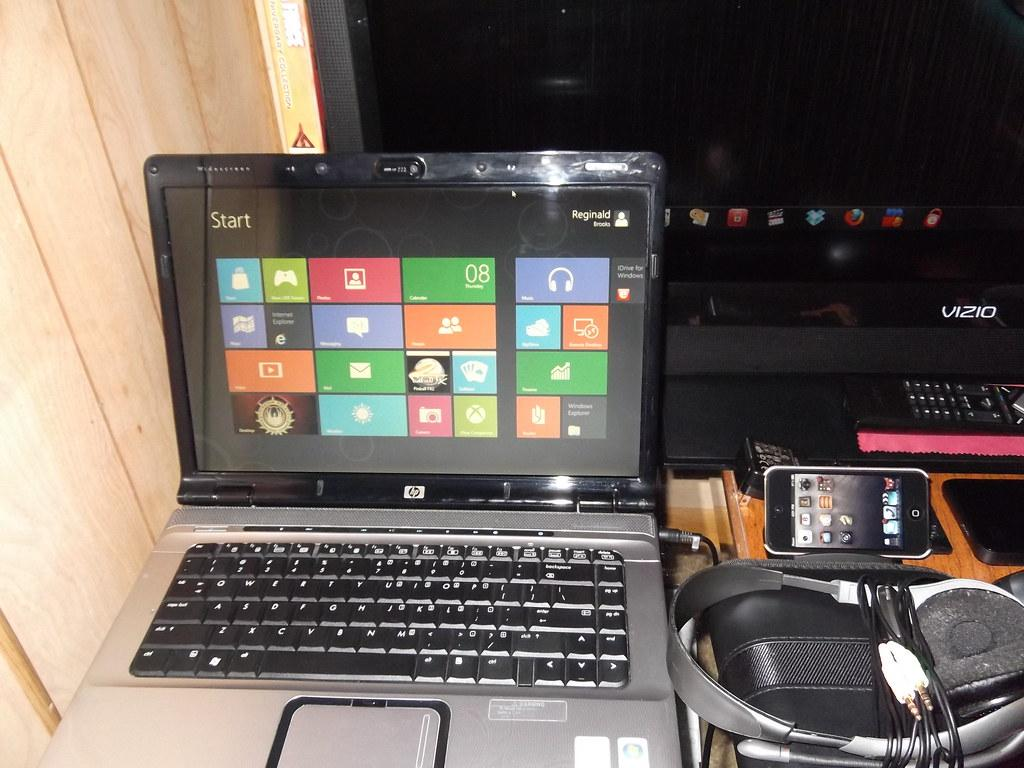computer: (39, 150, 684, 767), (305, 1, 1024, 469)
